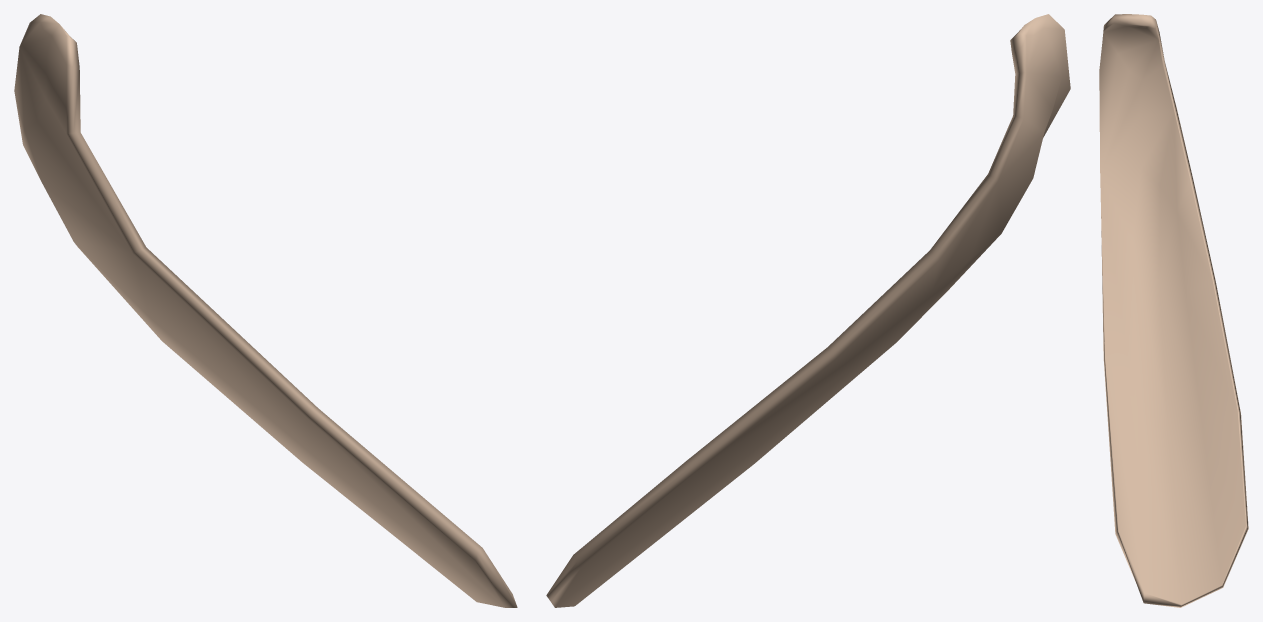
3 views of the same model, side by side, from view 1: azimuth 30°, elevation 25°; view 2: azimuth 150°, elevation 25°; view 3: azimuth 270°, elevation 25° (orthographic). The views are drawn at different scales.
Visible parts, largest first — view 1: 左侧髌内侧支持带; view 2: 左侧髌内侧支持带; view 3: 左侧髌内侧支持带.
Part boxes in pixels (x1,y1,x2,y2): 左侧髌内侧支持带: (14,14,517,607); 左侧髌内侧支持带: (546,14,1070,607); 左侧髌内侧支持带: (1099,14,1248,607).
Bounding box in the file's own units: 0.0483 × 0.0675 × 0.0201.
